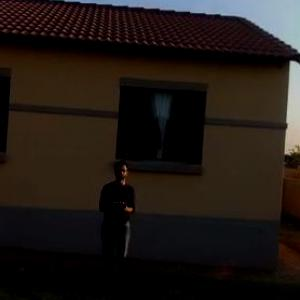follow: (93, 155, 138, 299)
